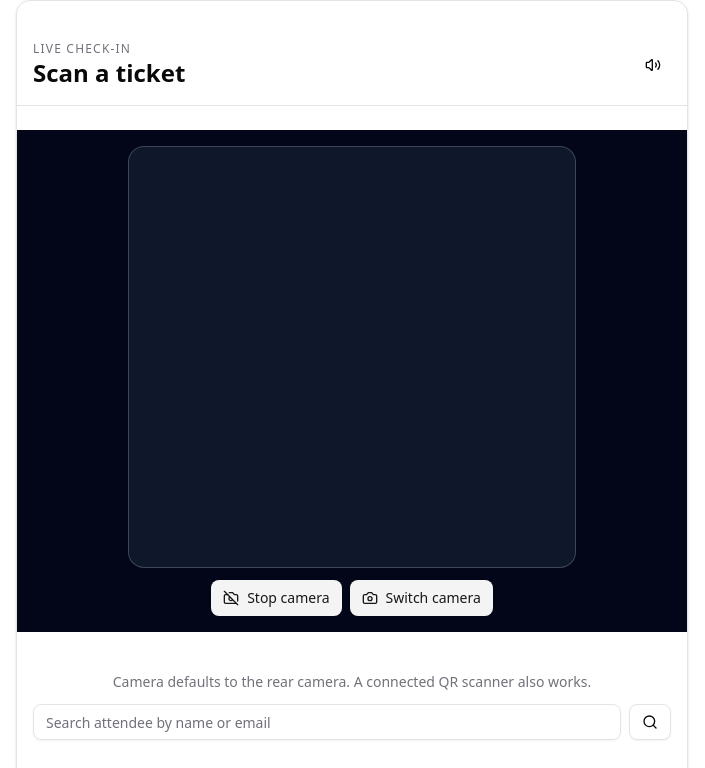
check-in scanner › lookup_waitlistedCandidate_isLabelledAndNotSelectable
Type "wait" into the field named "Manual search".
click(327, 722); type("wait")  # box [33,704,621,740]
(page scrolled)
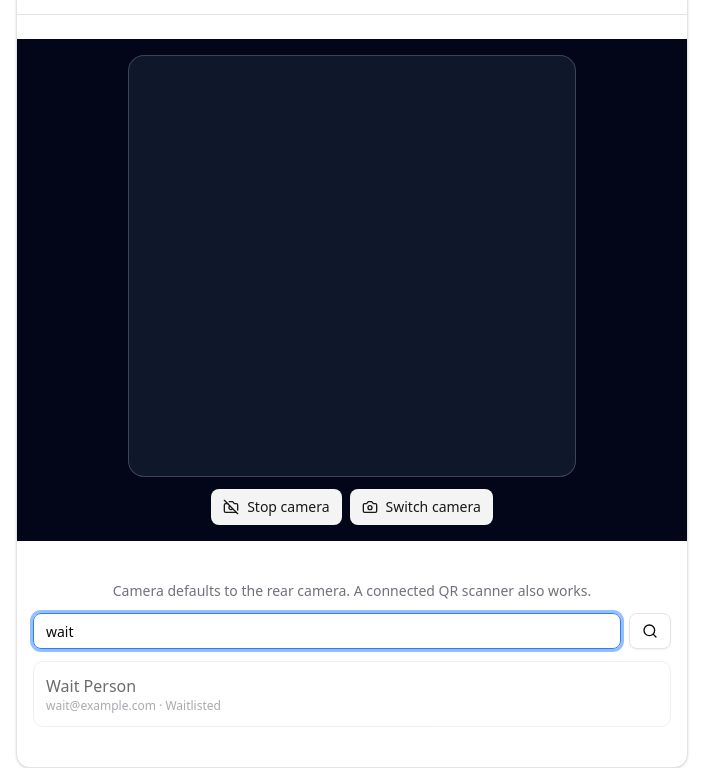
expect the button "Wait Person wait@example.com · Waitlisted" is shown: met, box [33,661,671,727]
expect the button "Wait Person wait@example.com · Waitlisted" is disabled: met, box [33,661,671,727]
